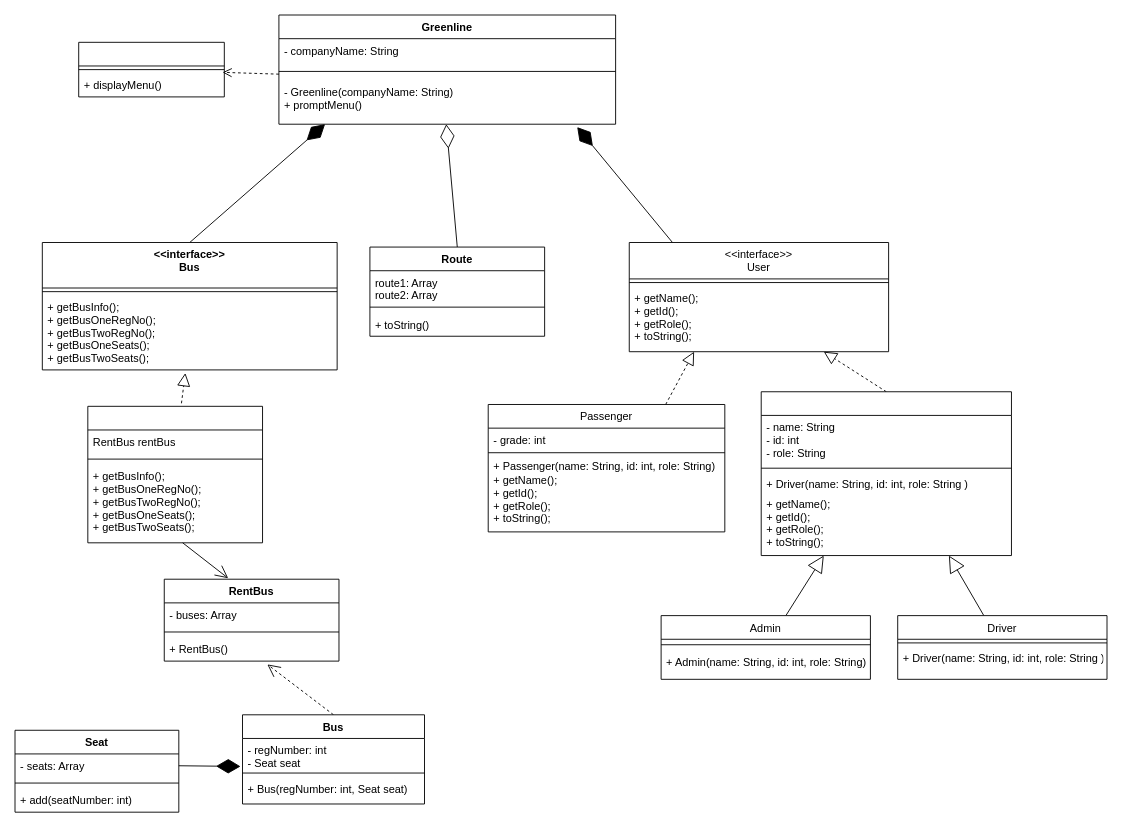
This 1122x827 diagram has some shape labels left out. Each missing label, with the box of its shape:
BusAdapter: (87, 405, 263, 543)
Employee: (760, 391, 1011, 556)
MainMenu: (78, 41, 224, 97)
